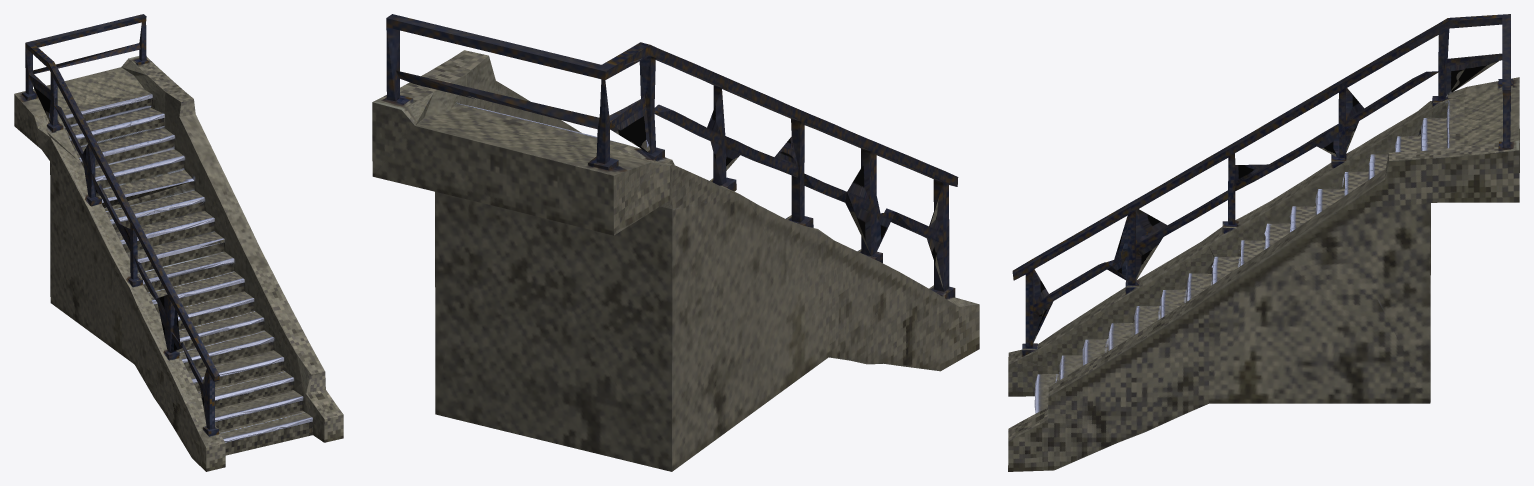
Rendered from Meshy_AI_model.glb.
3 views of the same model, side by side, from view 1: azimuth 30°, elevation 25°; view 2: azimuth 150°, elevation 25°; view 3: azimuth 270°, elevation 25° (orthographic). The views are drawn at different scales.
Parts seen in each view (by area): view 1: output_unwrapped; view 2: output_unwrapped; view 3: output_unwrapped.
Boxes of the visible parts, x1,y1,x2,y2 form: output_unwrapped: (14,14,343,471); output_unwrapped: (372,14,979,471); output_unwrapped: (1008,14,1519,471).
Bounding box in the file's own units: 0.7803 × 1.55 × 1.9.
1 material, 1 textured.
